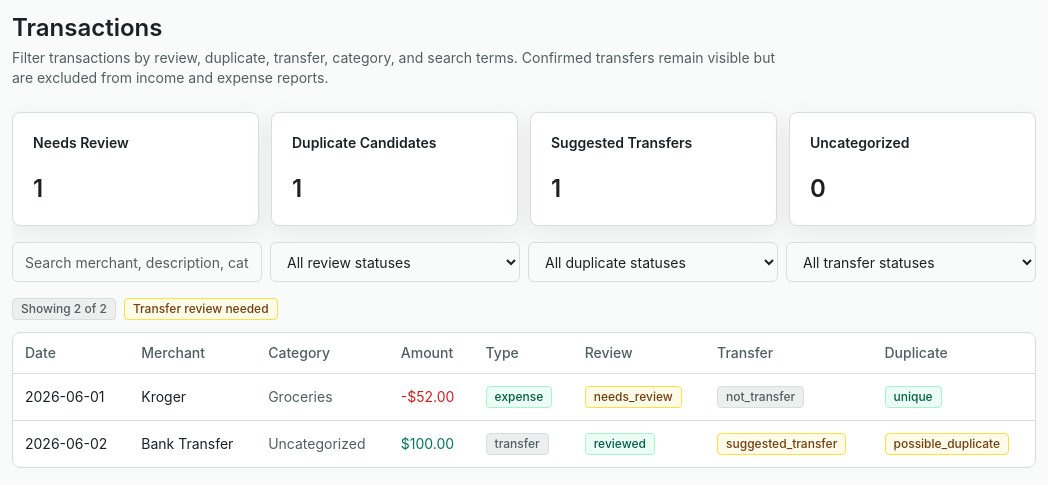
Transactions › shows cleanup counts, status columns, and filters transactions
The image size is (1048, 485).
expect the heading "Needs Review" is shown: met, box [33,134,129,151]
expect the heading "Duplicate Candidates" is shown: met, box [292,134,437,151]
Select "Suggested transfer" in the dropdown named "Transfer status filter" at (911, 262), box [786,242,1036,282]
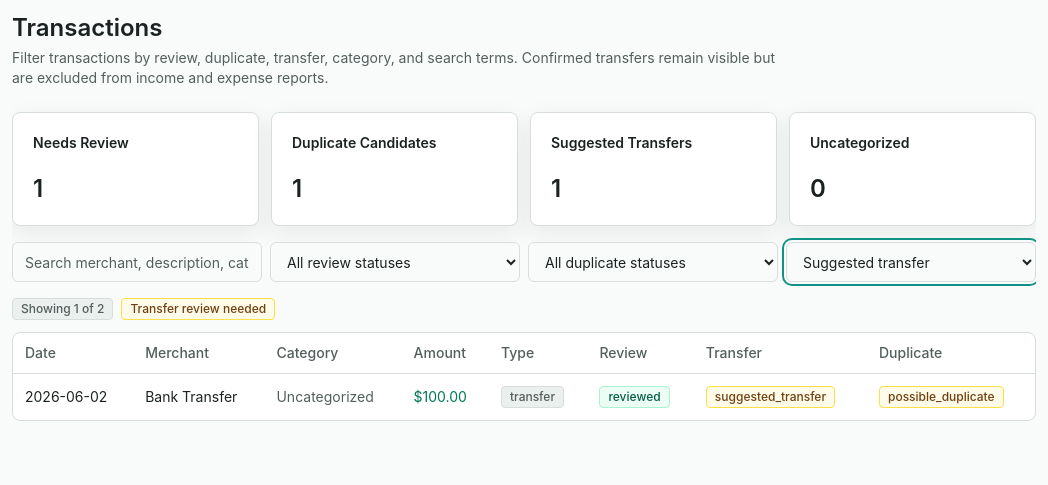
expect the text "Bank Transfer" is shown: met, box [133,373,264,420]
expect the text "Kroger" is gone: met
